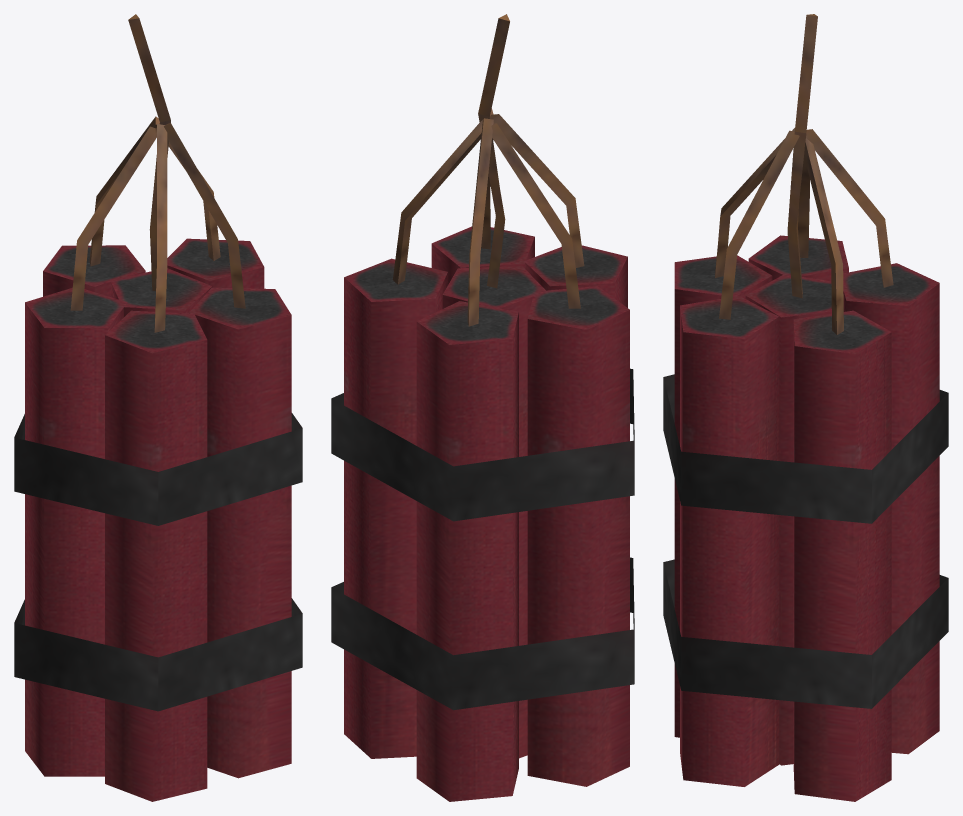
Rendered from tnt.glb.
3 views of the same model, side by side, from view 1: azimuth 30°, elevation 25°; view 2: azimuth 150°, elevation 25°; view 3: azimuth 270°, elevation 25° (orthographic).
Parts seen in each view (by area): view 1: TNT_01; view 2: TNT_01; view 3: TNT_01.
Boxes of the visible parts, left/top/right/bottom form: TNT_01: left=14, top=14, right=302, bottom=801; TNT_01: left=331, top=14, right=634, bottom=801; TNT_01: left=663, top=14, right=948, bottom=801.
Size of the model in its own units: 0.223 by 0.5808 by 0.208.
Materials: 1 (1 with a texture image).
